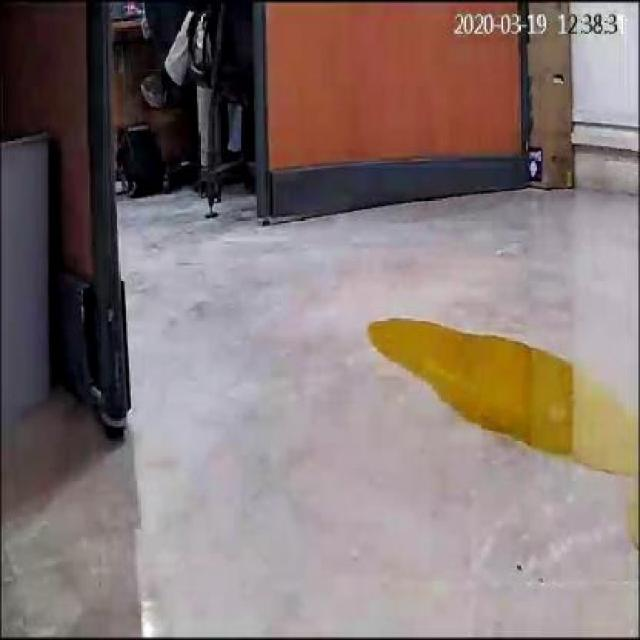spill: (362, 314, 632, 476)
